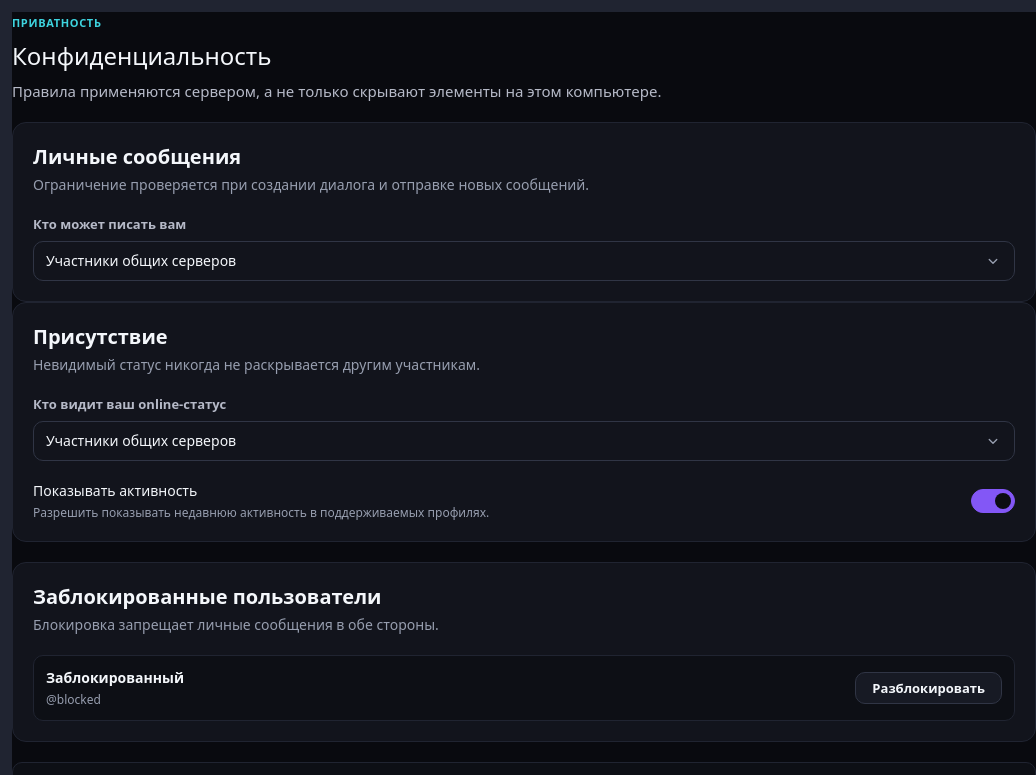
Test: routed user settings pages › renders and removes server-side blocked users
Click the button "Разблокировать" at (929, 688), box x1=855 y1=672 x2=1002 y2=704
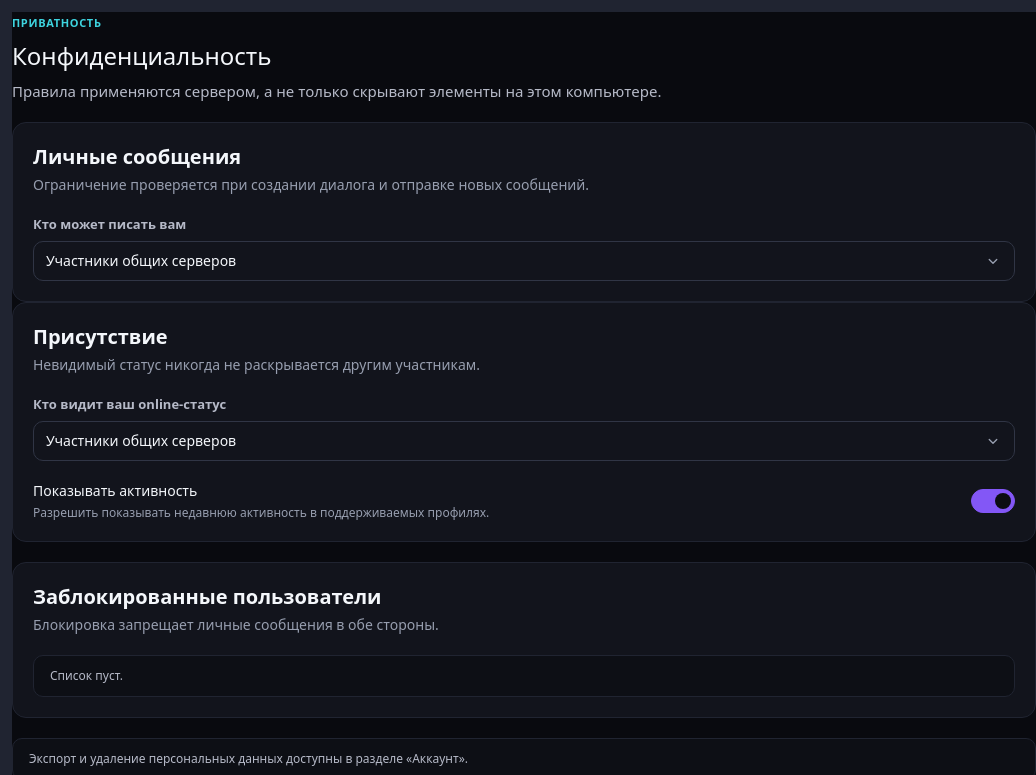
Expected: the text "Заблокированный" is gone
